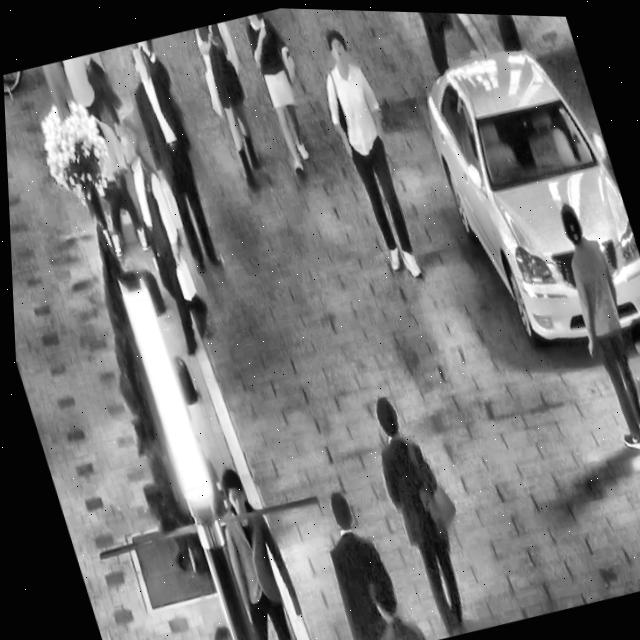light_vehicle: (399, 9, 640, 371)
